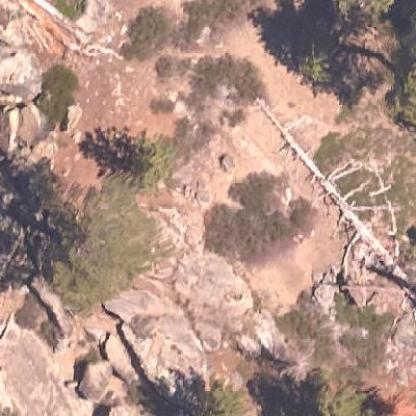tree-top: (29, 187, 153, 305), (165, 366, 259, 415), (294, 365, 375, 415), (286, 30, 350, 93), (112, 131, 180, 189)
